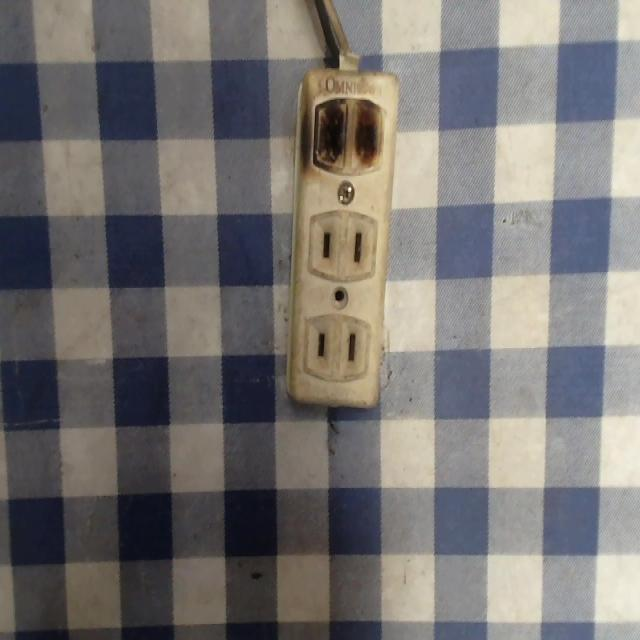-: (310, 92, 380, 169)
